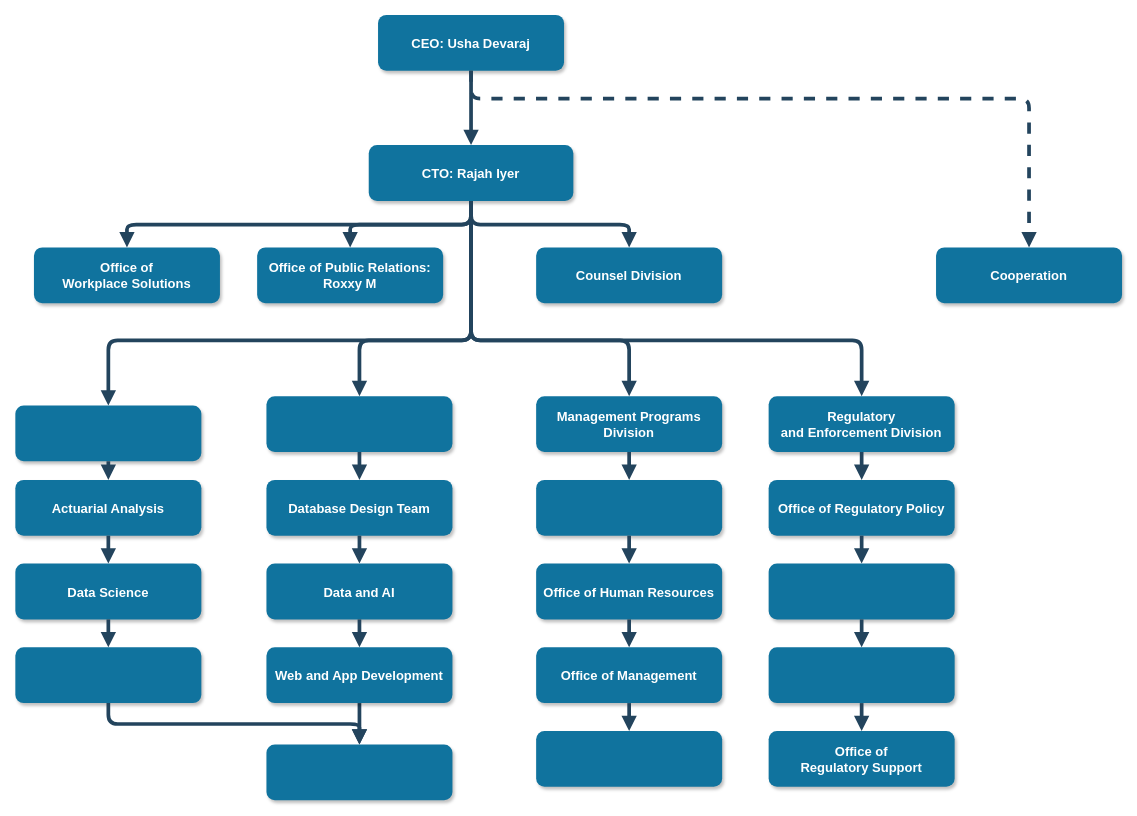
The diagram is 1137 pixels wide and 816 high, and some of its shapes have lost their labels. The centre of each missing label's shape, as x and y in pixels:
AI App Development: pixel 360 773
Analysis Division: pixel 108 434
Domain Architects Consultation Service: pixel 108 676
IT Division: pixel 360 425
Office Compliance: pixel 862 592
Office of Enforcement: pixel 862 676
Office of Financial Management: pixel 629 509
Office of Training Services: pixel 629 760
